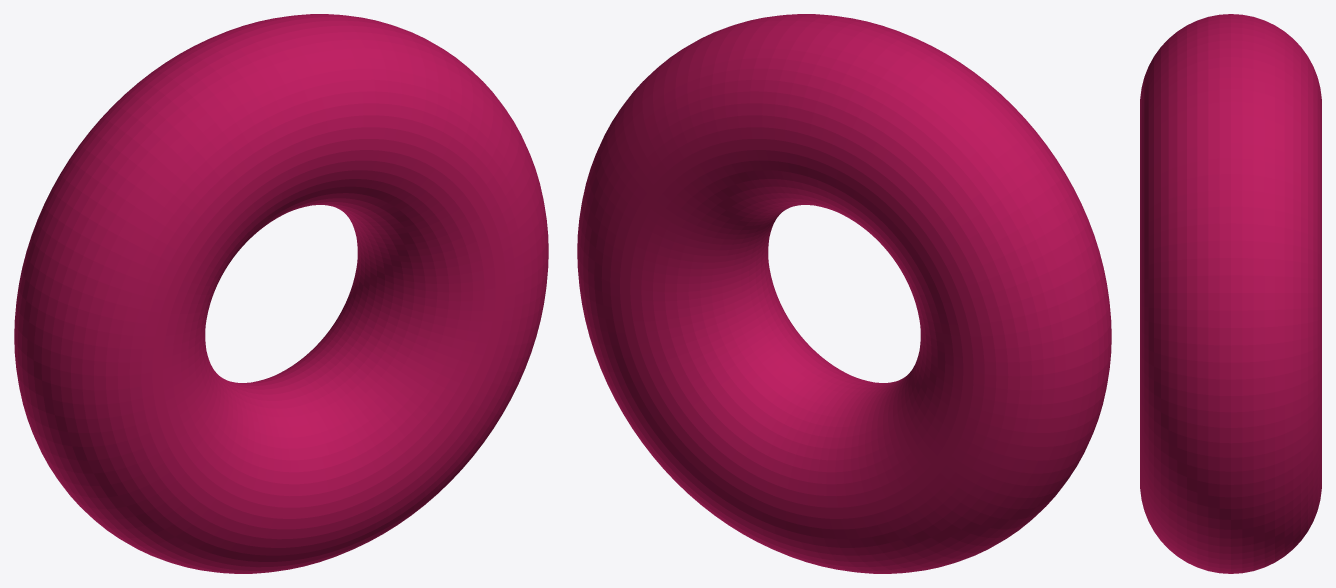
The picture shows the model from 3 angles, left to right: view 1: azimuth 30°, elevation 25°; view 2: azimuth 150°, elevation 25°; view 3: azimuth 270°, elevation 25°; orthographic projection. The views are drawn at different scales.
Parts seen in each view (by area): view 1: world; view 2: world; view 3: world.
Part boxes in pixels (<box>): world: <box>14,14,548,573</box>; world: <box>577,14,1111,573</box>; world: <box>1140,14,1321,573</box>.
Bounding box in the file's own units: 21.73 × 21.73 × 7.05.
